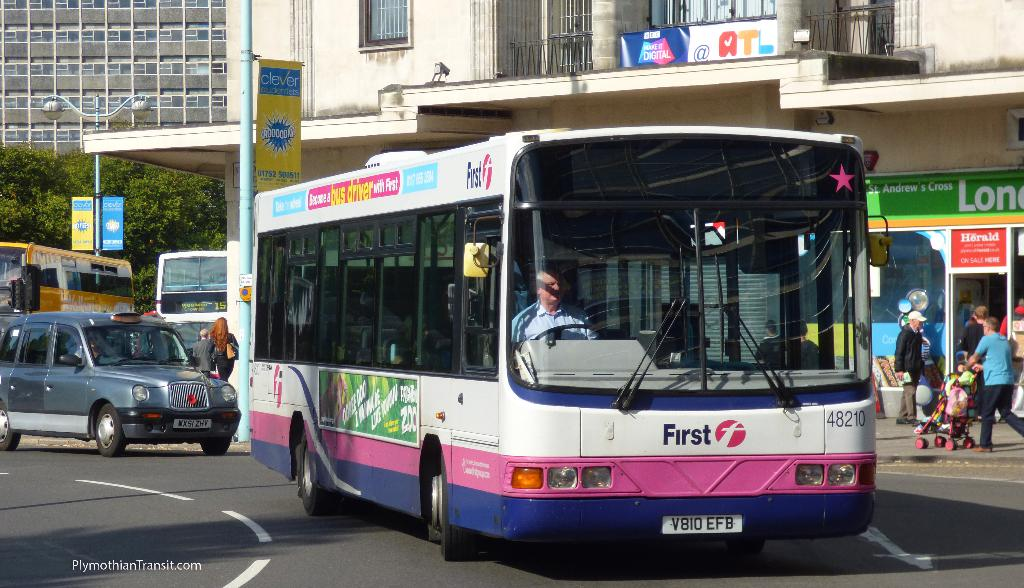Car: (3, 308, 236, 455)
